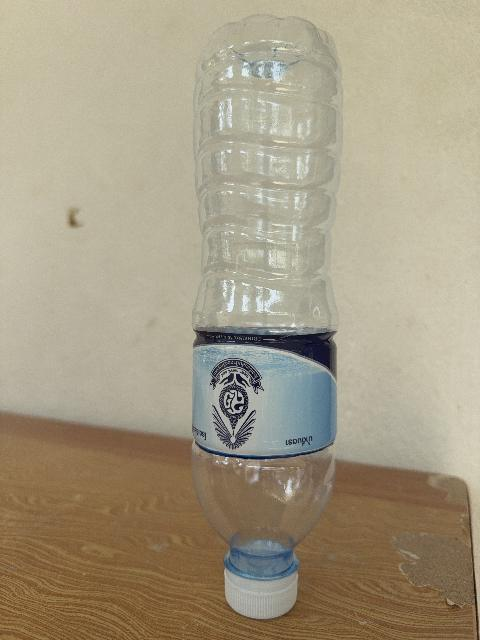bottle: (192, 16, 342, 618)
